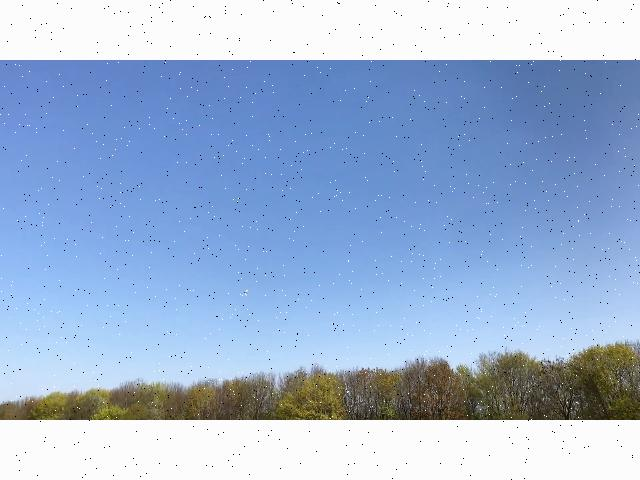Anti-Drone: (233, 283, 265, 305)
